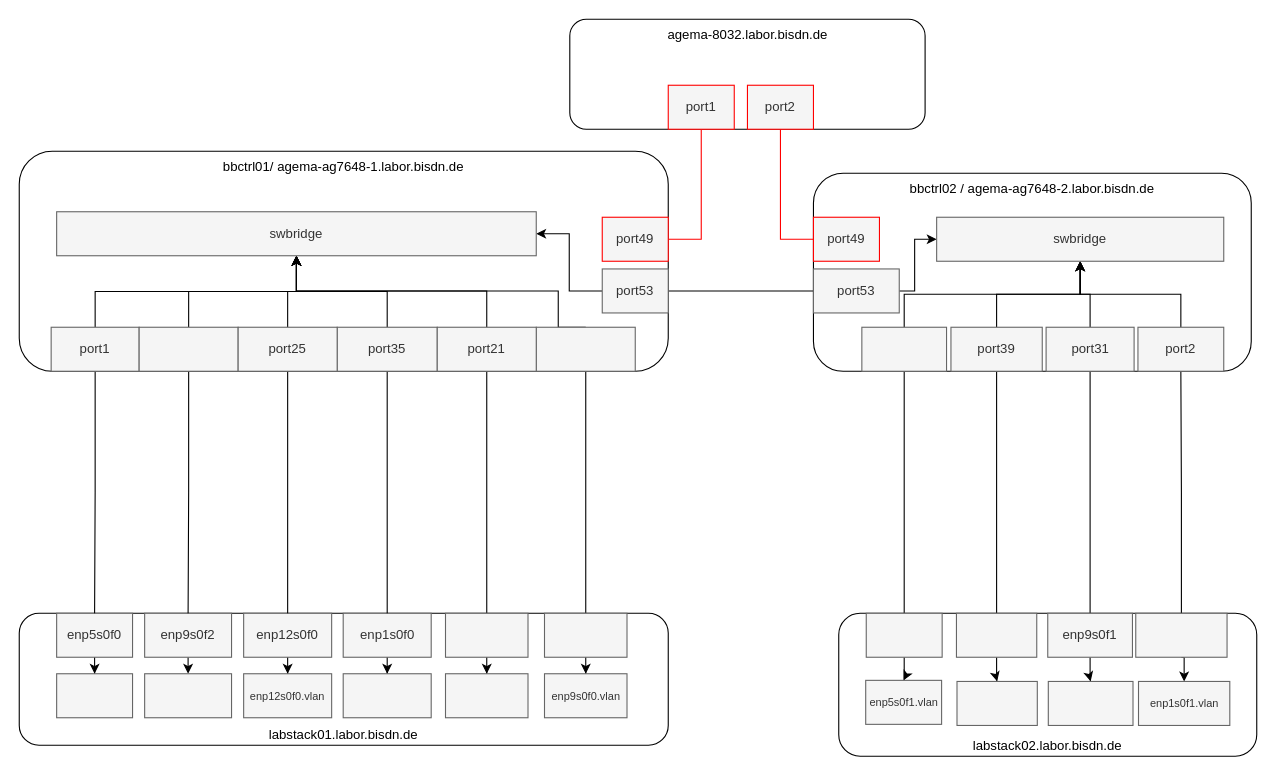
The diagram is 1276 pixels wide and 776 high, and some of its shapes have lost their labels. Each missing label, with the centre of its shape:
"enp1s0f0.vlan" goes at pixel 386 695.
"enp1s0f1" goes at pixel 1181 634.
"enp3s0f0" goes at pixel 486 634.
"enp3s0f0.vlan" goes at pixel 486 695.
"enp3s0f1" goes at pixel 996 634.
"enp3s0f1.vlan" goes at pixel 996 702.
"enp5s0f0.vlan" goes at pixel 94 695.
"enp5s0f1" goes at pixel 903 634.
"enp9s0f0" goes at pixel 585 634.
"enp9s0f1.vlan" goes at pixel 1090 702.
"enp9s0f2.vlan" goes at pixel 188 695.
"port16" goes at pixel 904 348.
"port32" goes at pixel 585 348.
"port44" goes at pixel 188 348.
